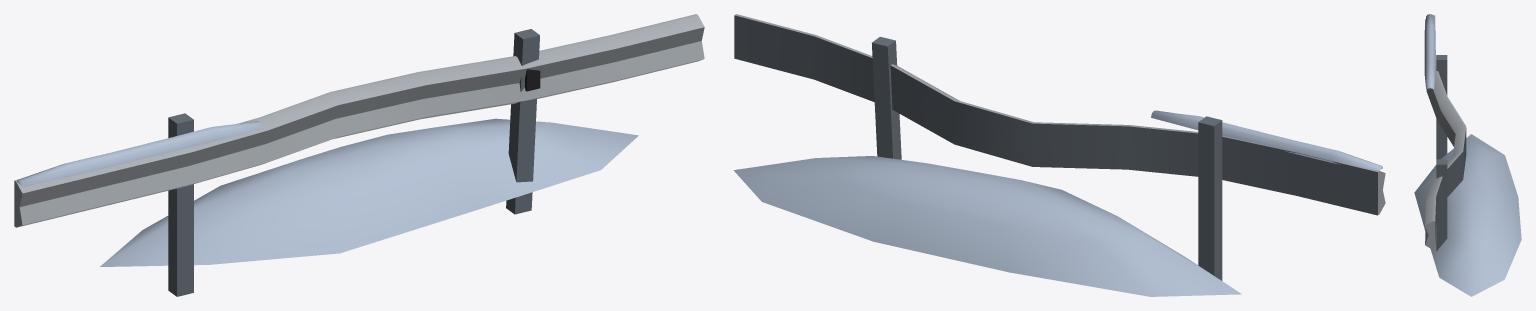
File: guardrail_bent.glb
The picture shows the model from 3 angles, left to right: view 1: azimuth 30°, elevation 25°; view 2: azimuth 150°, elevation 25°; view 3: azimuth 270°, elevation 25°; orthographic projection. The views are drawn at different scales.
Visible parts, largest first — view 1: Rail; view 2: Rail; view 3: Rail.
Part boxes in pixels (bbox=[...]): Rail: bbox=[14, 14, 704, 296]; Rail: bbox=[733, 14, 1385, 296]; Rail: bbox=[1414, 14, 1521, 296].
Bounding box in the file's own units: 4.04 × 0.98 × 0.8894.
